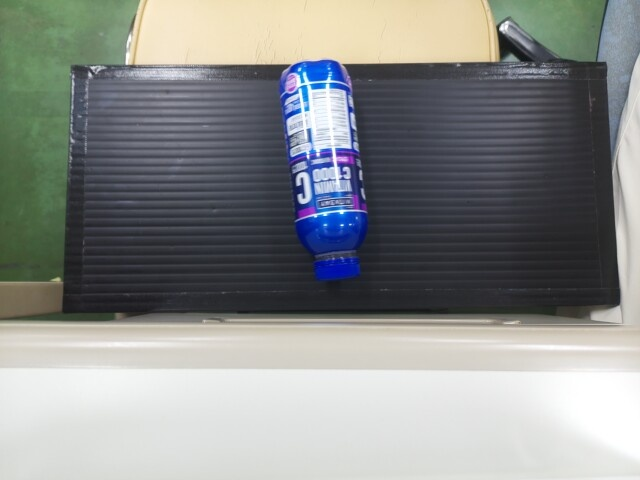plastic_bottle: (276, 55, 366, 278)
